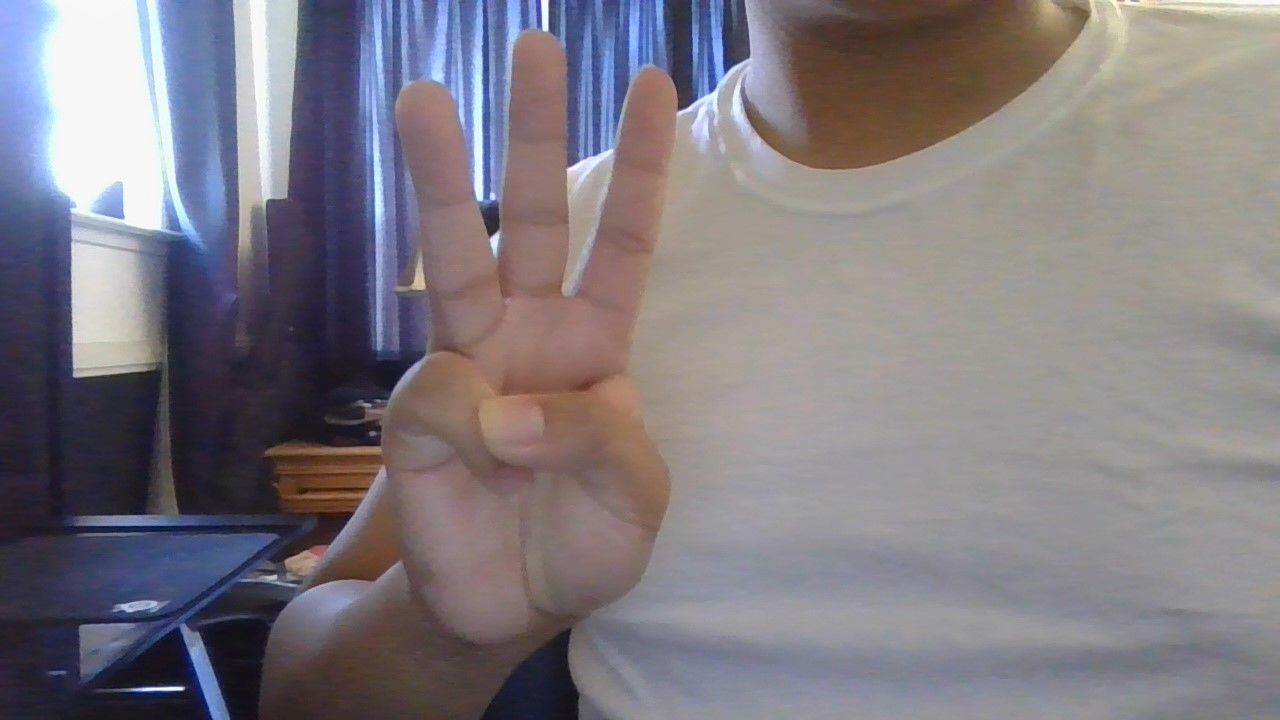w: (322, 16, 707, 660)
